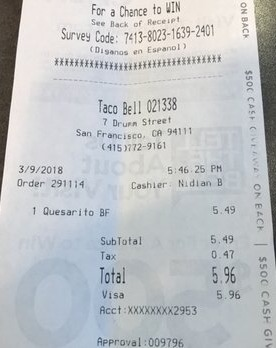Taco Bell: (95, 94, 143, 116)
